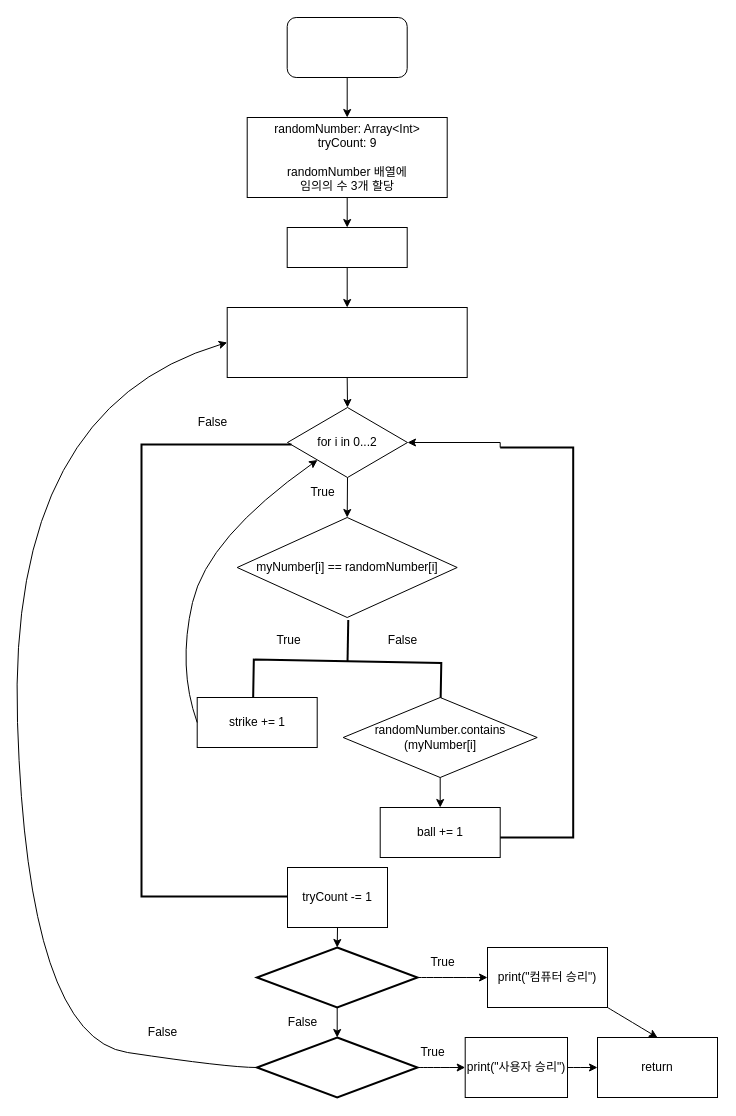
This 736x1116 diagram has some shape labels left out. The centre of each missing label's shape, as x and y in pixels:
itryCount == 0: pixel 336 977
myNumber: Array<Int> strike: 0 ball: 0: pixel 346 342
playGame(): pixel 346 247
strike == 3: pixel 336 1067
시작: pixel 346 47
